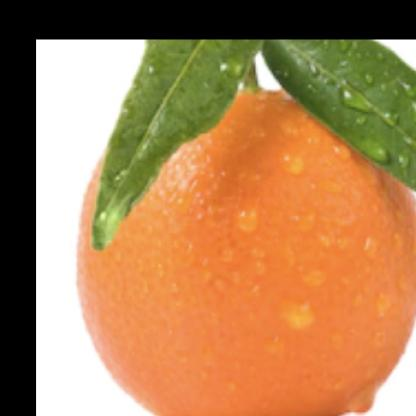fresh: (76, 77, 416, 416)
